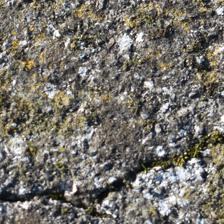Crack: (3, 72, 189, 142)
